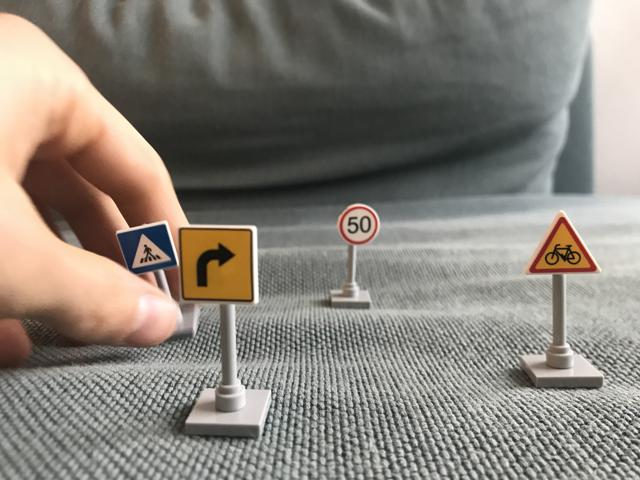fahrtrichtung rechts: (180, 224, 267, 303)
fußgängerüberweg: (114, 218, 178, 278)
radfahrer: (526, 212, 600, 282)
tempolimit 50: (337, 204, 381, 244)
